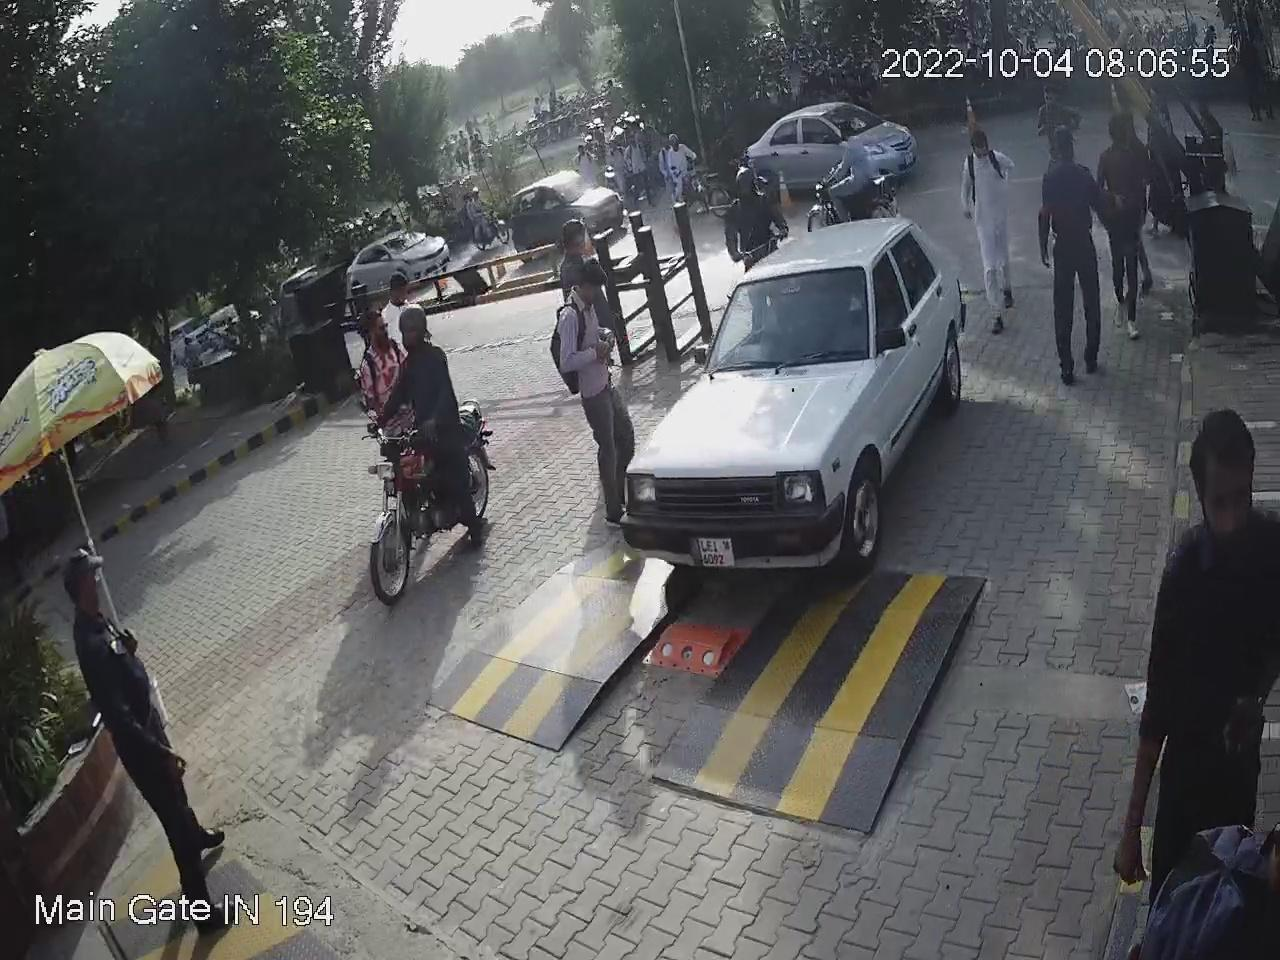windshield: (711, 262, 876, 372)
